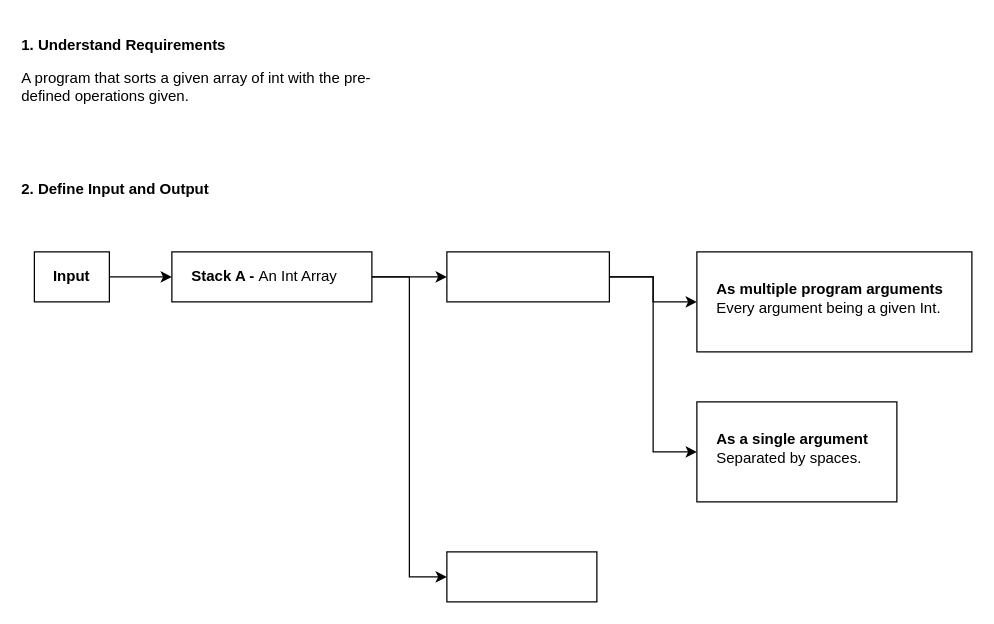
The diagram is 994 pixels wide and 624 high, and some of its shapes have lost their labels. The shapes that lost their labels are listed below. From the top down, each one's centre as x and y in pixels, then its label:
the point at 527,276: Input Methods
the point at 521,576: Invalid Inputs
